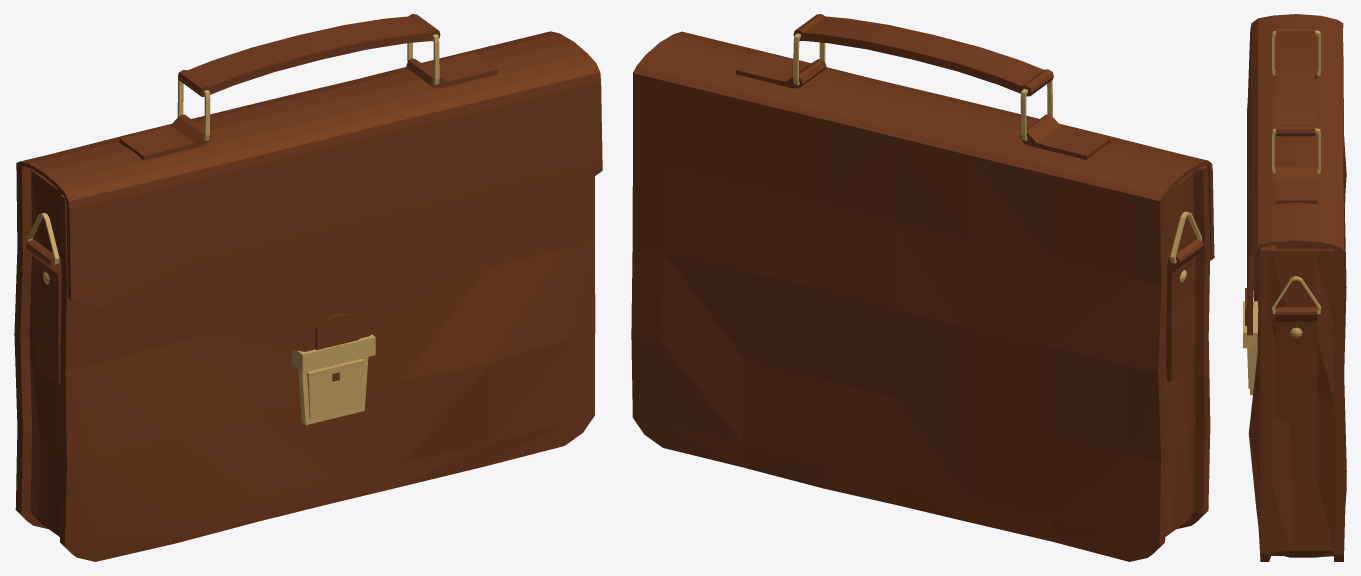
Rendered from pp.briefcase_ckz9.glb.
The picture shows the model from 3 angles, left to right: view 1: azimuth 30°, elevation 25°; view 2: azimuth 150°, elevation 25°; view 3: azimuth 270°, elevation 25°; orthographic projection. The views are drawn at different scales.
Visible parts, largest first — view 1: briefcase_ckz9; view 2: briefcase_ckz9; view 3: briefcase_ckz9.
Boxes of the visible parts, x1,y1,x2,y2 form: briefcase_ckz9: (14, 14, 602, 561); briefcase_ckz9: (631, 14, 1214, 561); briefcase_ckz9: (1243, 14, 1346, 561).
Size of the model in its own units: 0.45 by 0.3534 by 0.0852.
